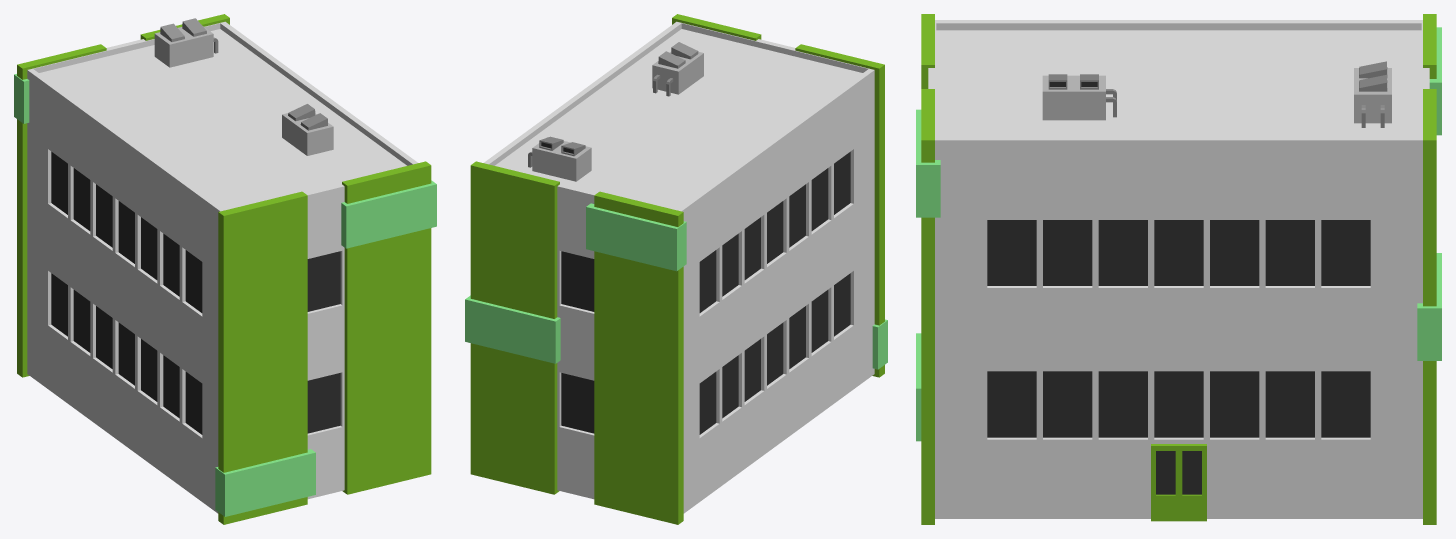
File: flat_06.fbx
The picture shows the model from 3 angles, left to right: view 1: azimuth 30°, elevation 25°; view 2: azimuth 150°, elevation 25°; view 3: azimuth 270°, elevation 25°; orthographic projection. The views are drawn at different scales.
Visible parts, largest first — view 1: flat_06; view 2: flat_06; view 3: flat_06.
Part boxes in pixels (x1=…): flat_06: x1=14, y1=14, x2=436, y2=524; flat_06: x1=465, y1=14, x2=887, y2=524; flat_06: x1=916, y1=14, x2=1441, y2=524.
Size of the model in its own units: 9.62 by 14.38 by 16.61.
